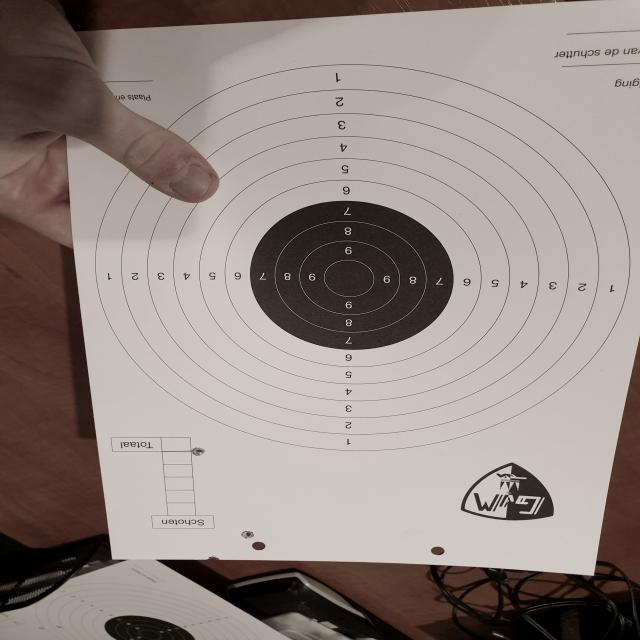0: (190, 446, 206, 457), (240, 530, 255, 540), (207, 556, 220, 560)
Target: (96, 61, 632, 455)
black_contour: (250, 201, 454, 351)
